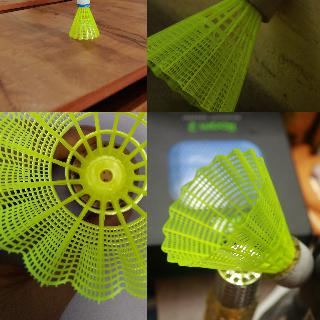shuttlecock: (0, 112, 146, 301), (161, 148, 313, 288), (147, 0, 283, 111), (68, 0, 100, 40)
